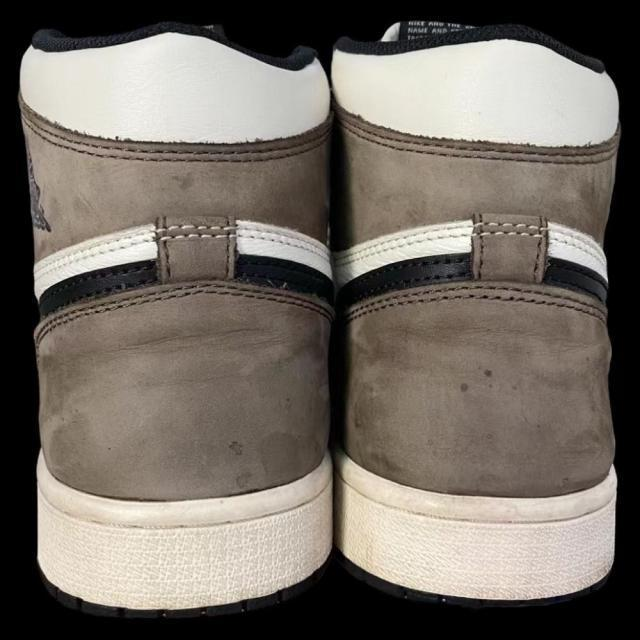nike original jordan 1: (16, 16, 336, 624), (333, 10, 624, 612)
